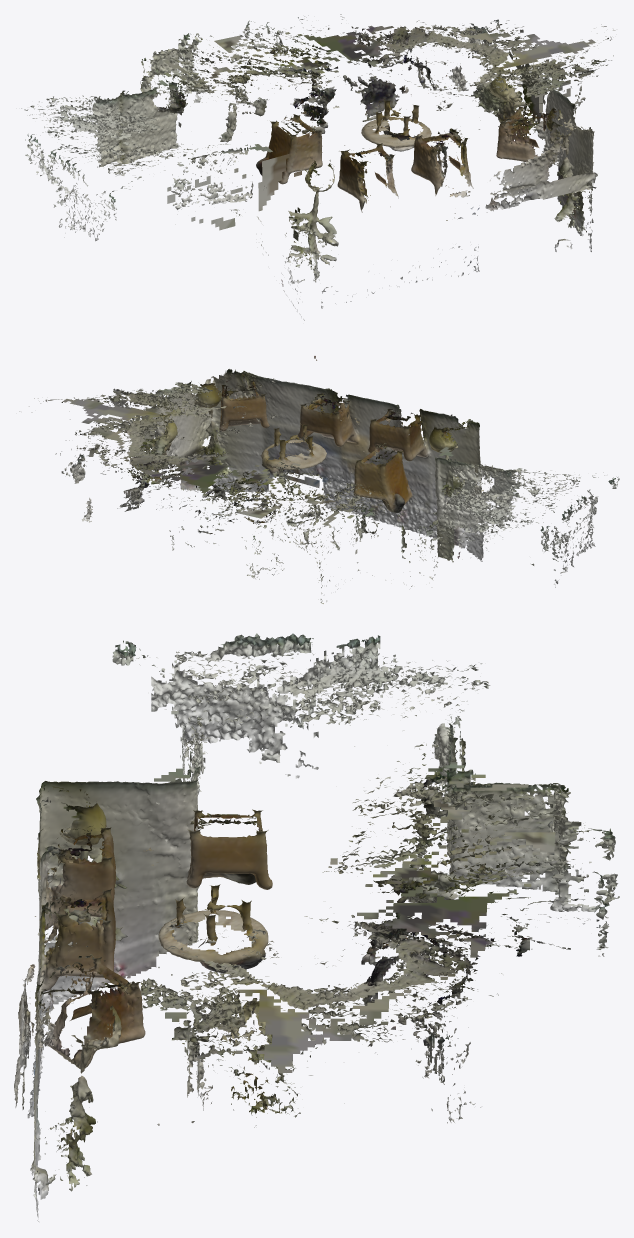
The model's file is OBSERVED-plus-INFERRED.glb.
3 renders of one model, top to bottom at view 1: azimuth 30°, elevation 25°; view 2: azimuth 150°, elevation 25°; view 3: azimuth 270°, elevation 25°, orthographic. The views are drawn at different scales.
Parts seen in each view (by area): view 1: world; view 2: world; view 3: world.
Boxes of the visible parts, x1,y1,x2,y2 form: world: [21, 14, 615, 320]; world: [19, 356, 619, 603]; world: [14, 633, 619, 1221].
Bounding box in the file's own units: 10.22 × 3.3 × 5.88.
